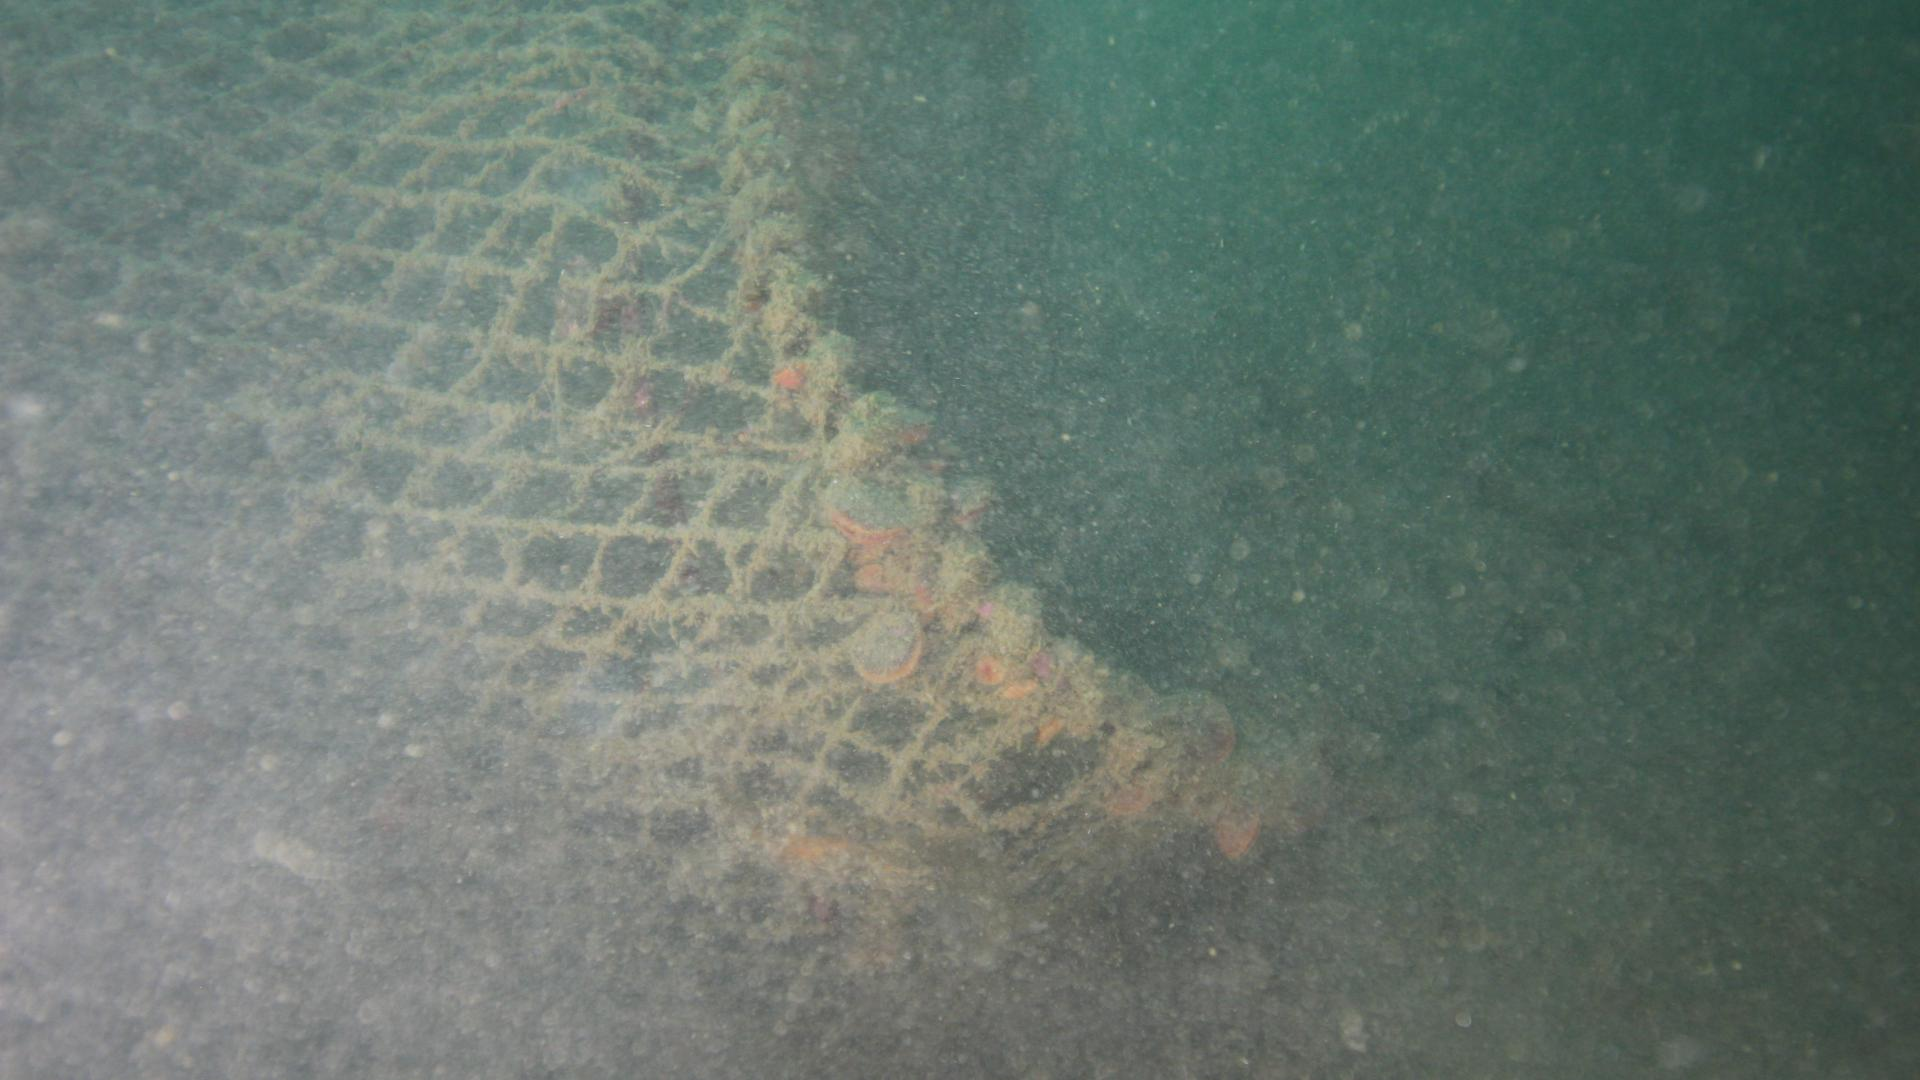circular fish trap: (0, 0, 1240, 1029)
